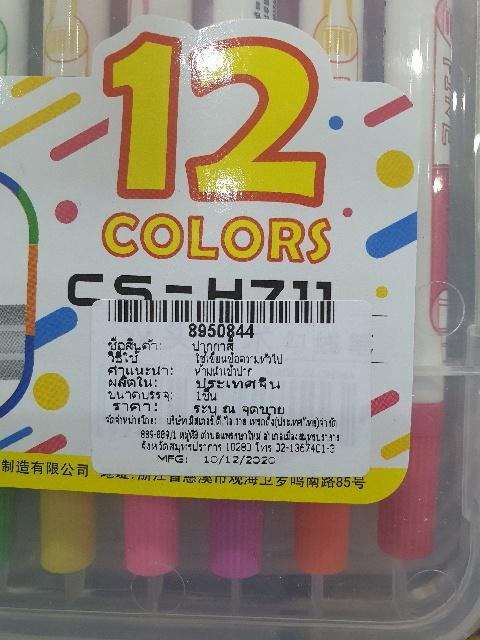Barcode: (99, 298, 340, 339)
